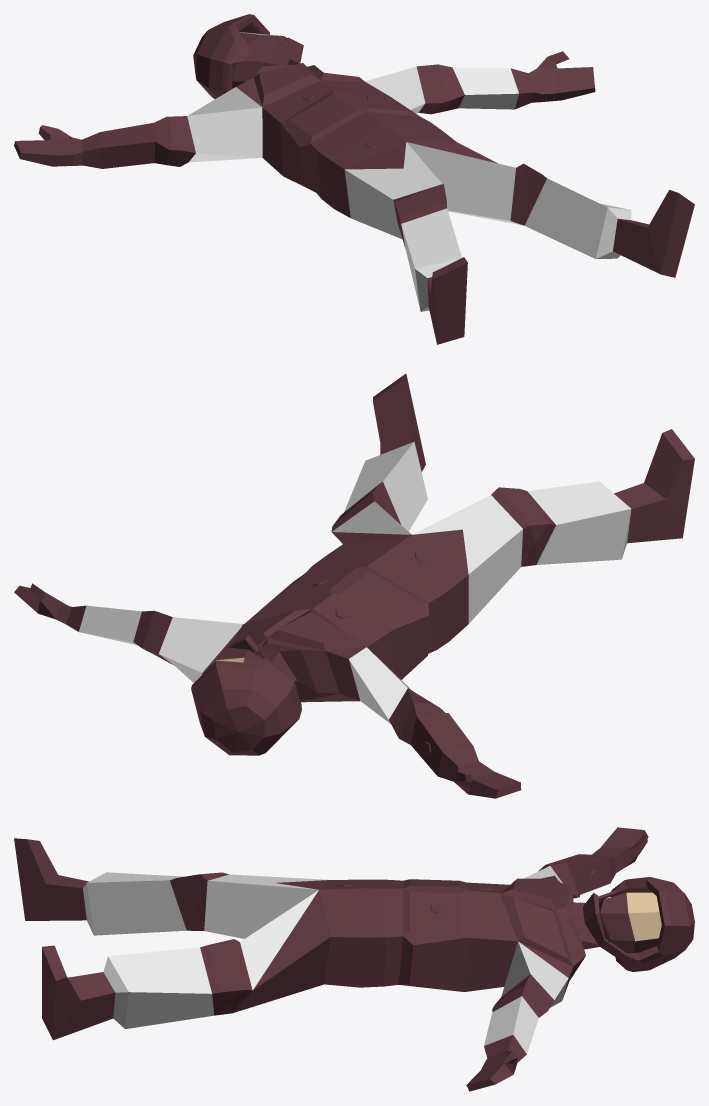
File: man-swat-dead.fbx
3 views of the same model, one above another, from view 1: azimuth 30°, elevation 25°; view 2: azimuth 150°, elevation 25°; view 3: azimuth 270°, elevation 25° (orthographic). The views are drawn at different scales.
Parts seen in each view (by area): view 1: man-swat-dead; view 2: man-swat-dead; view 3: man-swat-dead.
Part boxes in pixels (x1=…): man-swat-dead: x1=14, y1=14, x2=694, y2=344; man-swat-dead: x1=14, y1=373, x2=694, y2=798; man-swat-dead: x1=14, y1=827, x2=694, y2=1091.
Bounding box in the file's own units: 1.62 × 0.2742 × 1.79.
